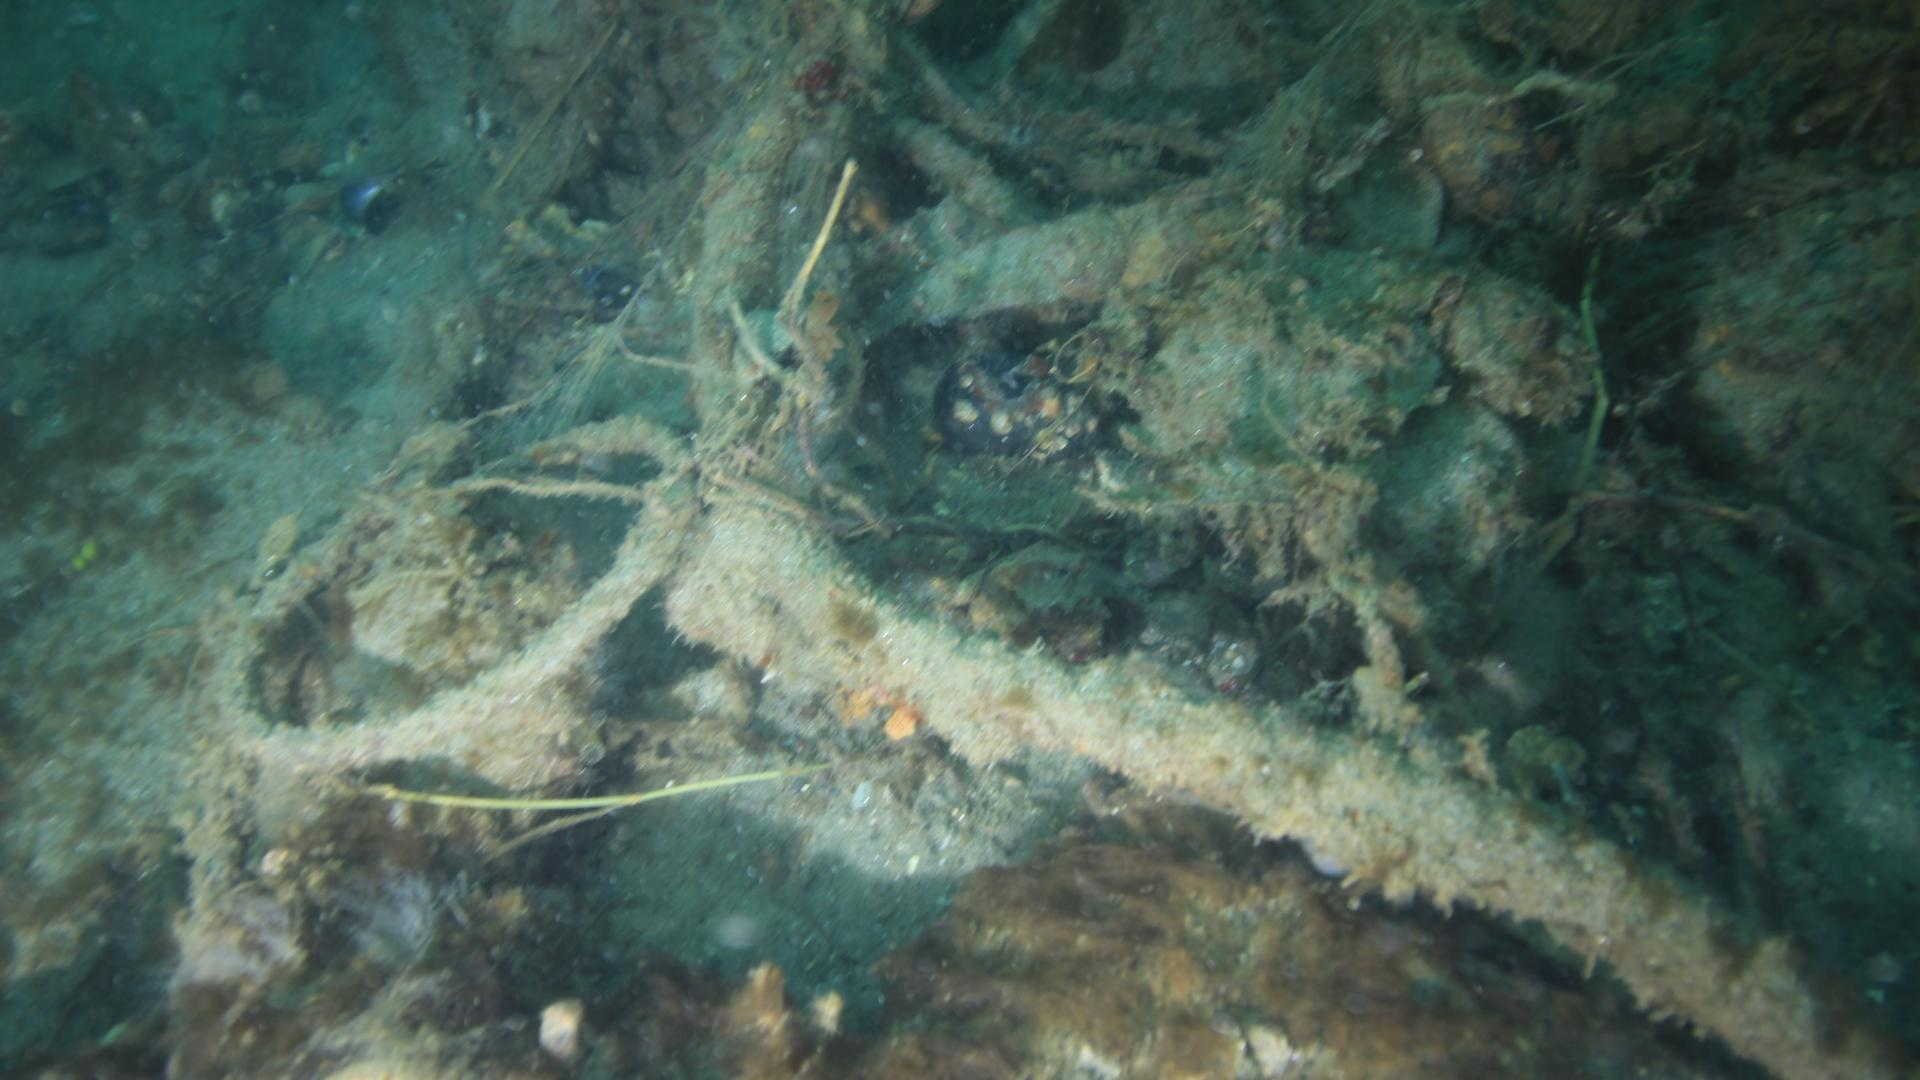rope: (684, 102, 1916, 1080)
